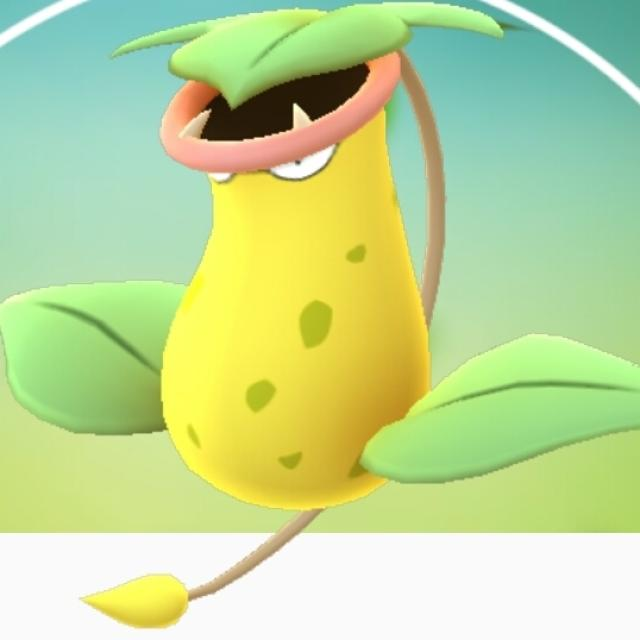Victreebel: (139, 8, 447, 527)
